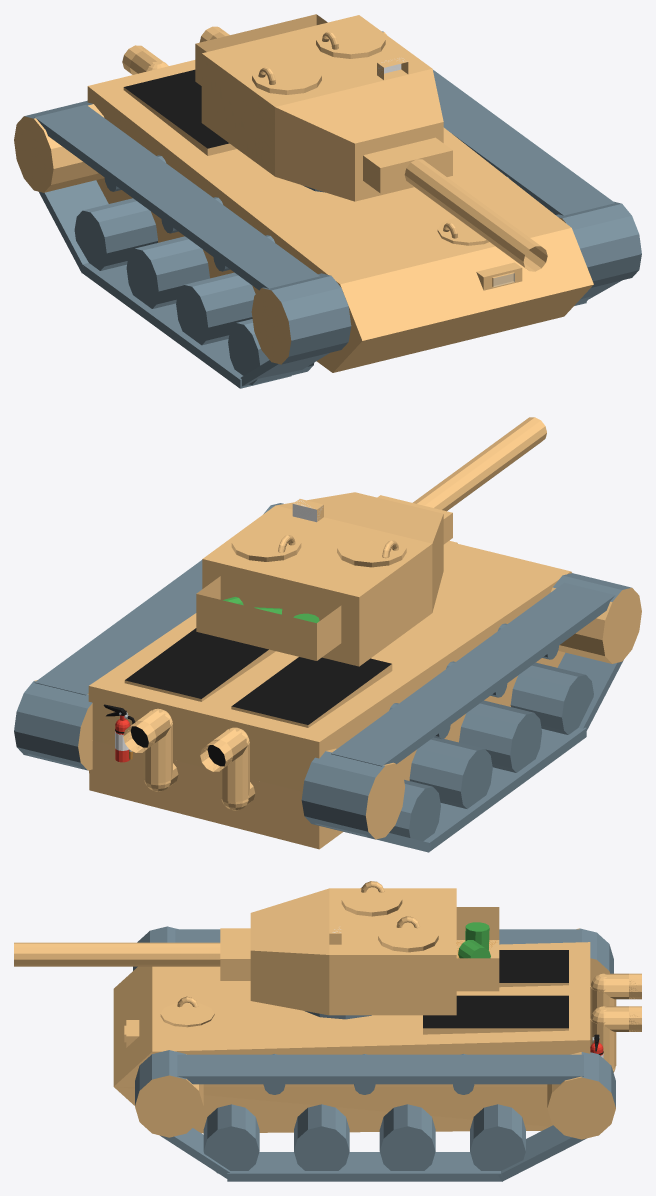
The model's file is tank.fbx.
The picture shows the model from 3 angles, top to bottom: view 1: azimuth 30°, elevation 25°; view 2: azimuth 150°, elevation 25°; view 3: azimuth 270°, elevation 25°; orthographic projection. The views are drawn at different scales.
Parts seen in each view (by area): view 1: Body, Turret; view 2: Body, Turret; view 3: Body, Turret.
Boxes of the visible parts, x1,y1,x2,y2 form: Body: (14,26,641,388); Turret: (195,14,547,271); Body: (14,503,641,852); Turret: (196,417,546,666); Body: (113,926,641,1181); Turret: (14,881,499,1015).
Bounding box in the file's own units: 82.06 × 51.83 × 146.
